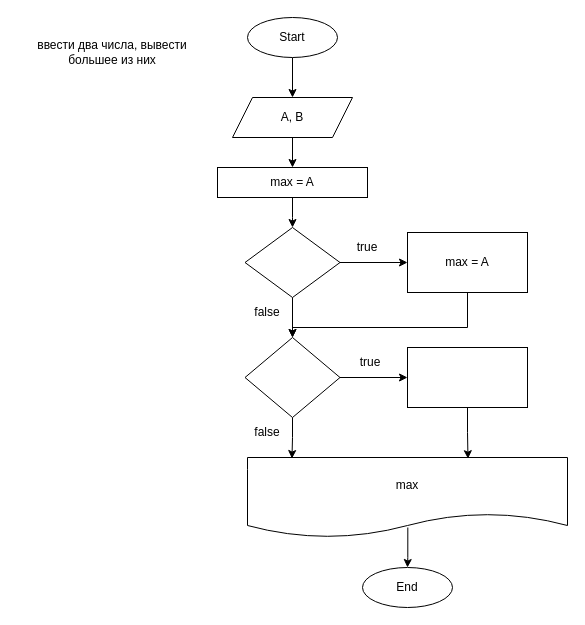
The diagram is 585 pixels wide and 625 high, and some of its shapes have lost their labels. The shapes that lost their labels are listed below. From the top down, each one's box as (x1, y1, x2, y2) in pixels, then its label:
(244, 226, 340, 298): A > max
(244, 336, 340, 418): B > max
(406, 346, 528, 408): max = B
